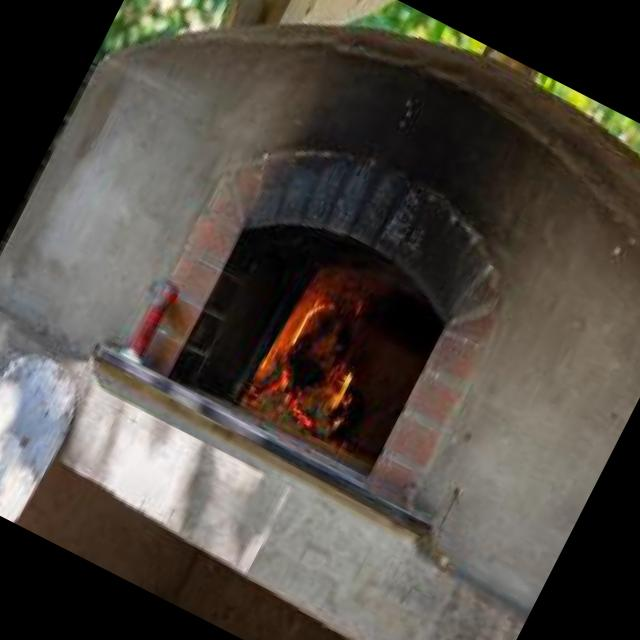fire: (240, 248, 416, 448)
